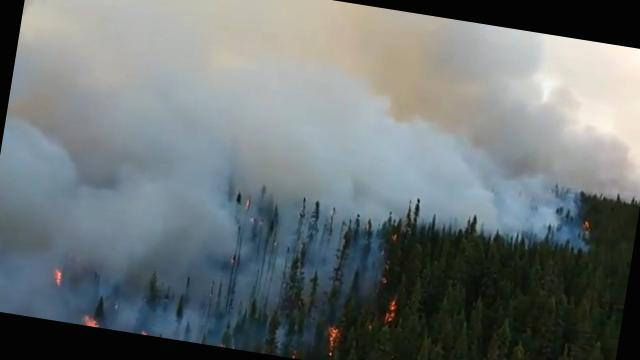fire: (322, 324, 347, 358), (382, 297, 400, 330), (82, 313, 105, 328)
smoke: (0, 0, 616, 360)
